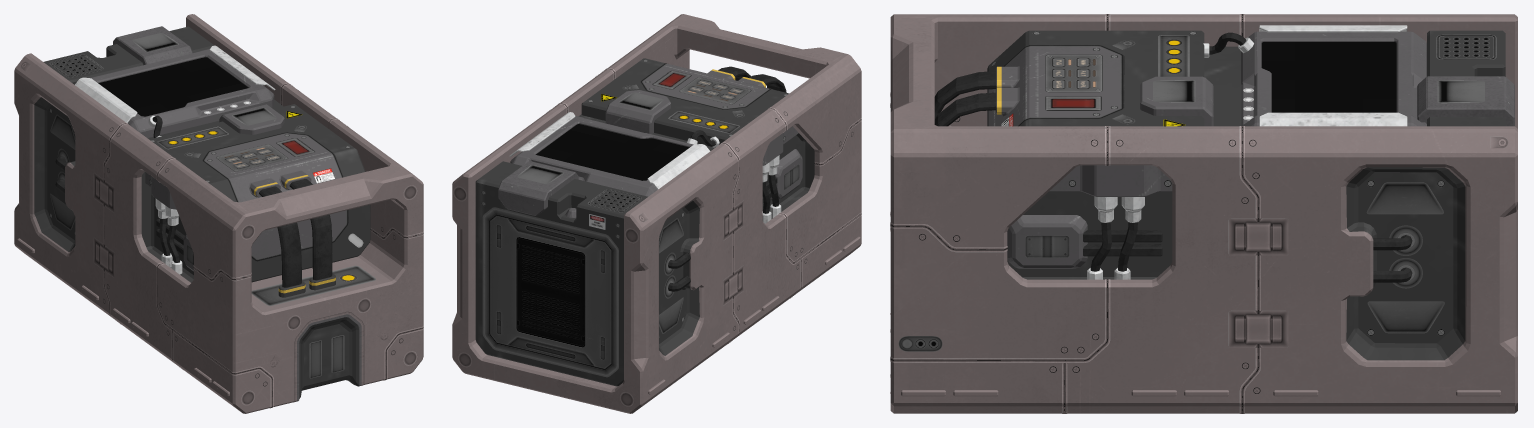
The model's file is Small_Grid_640.obj.
The picture shows the model from 3 angles, left to right: view 1: azimuth 30°, elevation 25°; view 2: azimuth 150°, elevation 25°; view 3: azimuth 270°, elevation 25°; orthographic projection. The views are drawn at different scales.
Parts seen in each view (by area): view 1: Small_Grid_640_part1, Small_Grid_640_part21, Small_Grid_640_part2, Small_Grid_640_part11, Small_Grid_640_part20, Small_Grid_640_part6, Small_Grid_640_part13, Small_Grid_640_part8, Small_Grid_640_part3, Small_Grid_640_part12, Small_Grid_640_part19, Small_Grid_640_part18 (+2 smaller); view 2: Small_Grid_640_part1, Small_Grid_640_part11, Small_Grid_640_part21, Small_Grid_640_part2, Small_Grid_640_part20, Small_Grid_640_part8, Small_Grid_640_part13, Small_Grid_640_part12, Small_Grid_640_part6, Small_Grid_640_part3; view 3: Small_Grid_640_part1, Small_Grid_640_part21, Small_Grid_640_part2, Small_Grid_640_part11, Small_Grid_640_part20, Small_Grid_640_part6, Small_Grid_640_part13, Small_Grid_640_part8, Small_Grid_640_part3, Small_Grid_640_part12, Small_Grid_640_part4, Small_Grid_640_part5.
Part boxes in pixels (<box>): Small_Grid_640_part1: <box>14,14,423,413</box>; Small_Grid_640_part21: <box>34,26,370,398</box>; Small_Grid_640_part2: <box>74,26,346,271</box>; Small_Grid_640_part11: <box>49,33,375,378</box>; Small_Grid_640_part20: <box>98,57,248,116</box>; Small_Grid_640_part6: <box>55,115,332,287</box>; Small_Grid_640_part13: <box>21,61,417,405</box>; Small_Grid_640_part8: <box>75,45,275,274</box>; Small_Grid_640_part3: <box>103,83,423,408</box>; Small_Grid_640_part12: <box>167,130,314,171</box>; Small_Grid_640_part19: <box>293,311,364,402</box>; Small_Grid_640_part18: <box>296,314,361,401</box>; Small_Grid_640_part1: <box>452,14,861,413</box>; Small_Grid_640_part11: <box>481,59,799,377</box>; Small_Grid_640_part21: <box>475,58,814,386</box>; Small_Grid_640_part2: <box>498,64,802,217</box>; Small_Grid_640_part20: <box>536,124,689,180</box>; Small_Grid_640_part8: <box>509,112,781,223</box>; Small_Grid_640_part13: <box>453,110,853,406</box>; Small_Grid_640_part12: <box>652,70,751,129</box>; Small_Grid_640_part6: <box>668,66,786,291</box>; Small_Grid_640_part3: <box>555,68,861,343</box>; Small_Grid_640_part1: <box>890,14,1517,413</box>; Small_Grid_640_part21: <box>987,30,1505,360</box>; Small_Grid_640_part2: <box>987,31,1514,268</box>; Small_Grid_640_part11: <box>898,31,1496,351</box>; Small_Grid_640_part20: <box>1261,42,1396,112</box>; Small_Grid_640_part6: <box>934,32,1412,282</box>; Small_Grid_640_part13: <box>918,117,1508,394</box>; Small_Grid_640_part8: <box>1087,25,1407,279</box>; Small_Grid_640_part3: <box>890,14,1260,413</box>; Small_Grid_640_part12: <box>1045,39,1182,110</box>; Small_Grid_640_part4: <box>1003,44,1124,126</box>; Small_Grid_640_part5: <box>1004,45,1122,126</box>.
Size of the model in its own units: 0.5107 by 0.5073 by 1.
21 materials, 21 textured.
